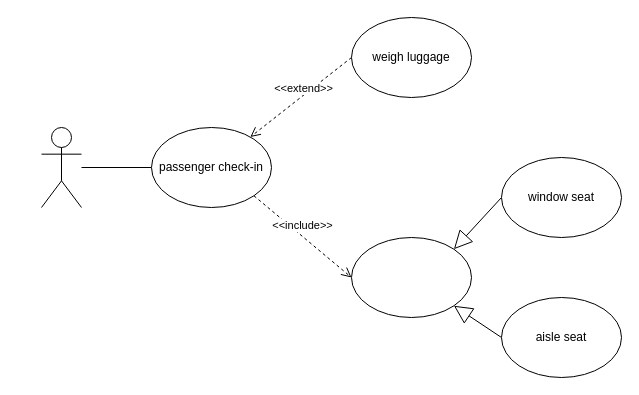
Image size: 639x395. Some labels were removed from this diagram. Each missing label, with the box of its shape:
airport employee: (40, 126, 82, 208)
assign passenger seat: (350, 236, 472, 318)
